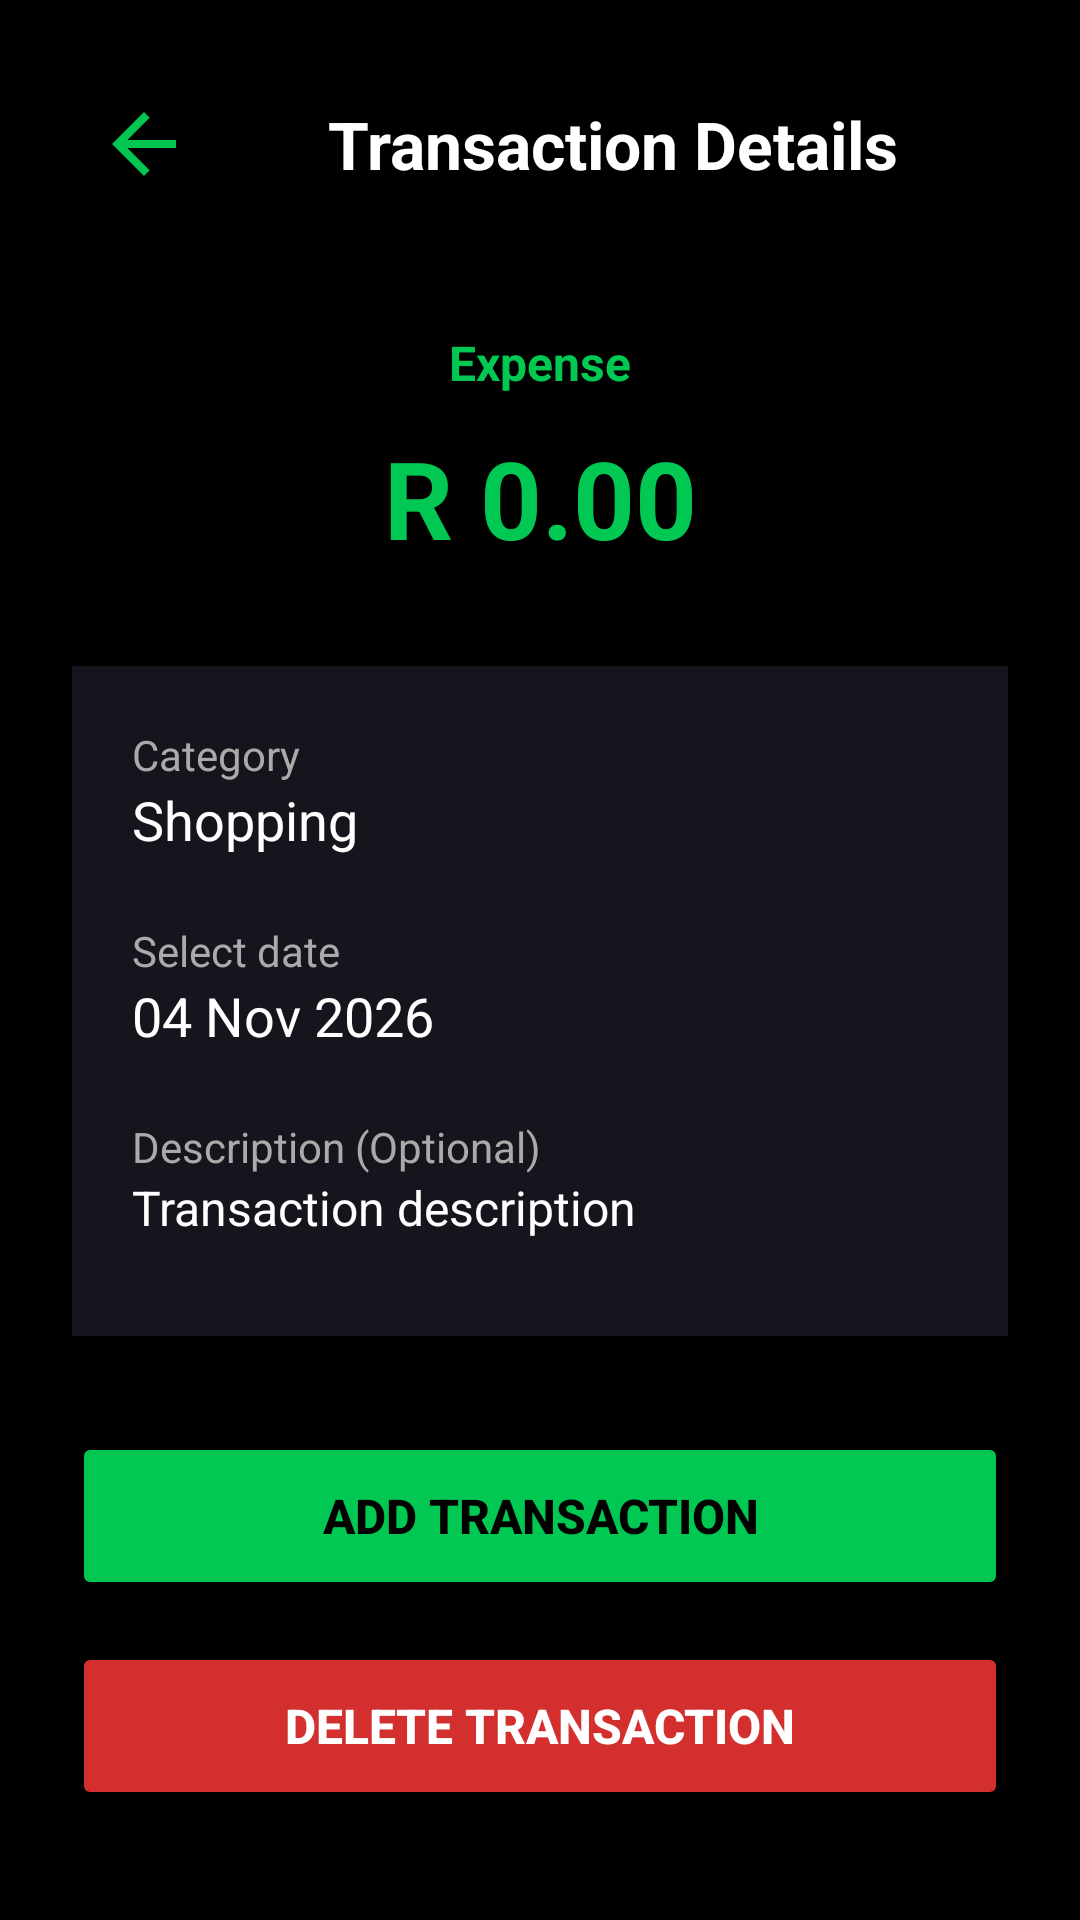

Icons on this 1080px x 1920px Android screen, each with its box as (x1, y1, x2, y2):
Back: (112, 112, 176, 176)
